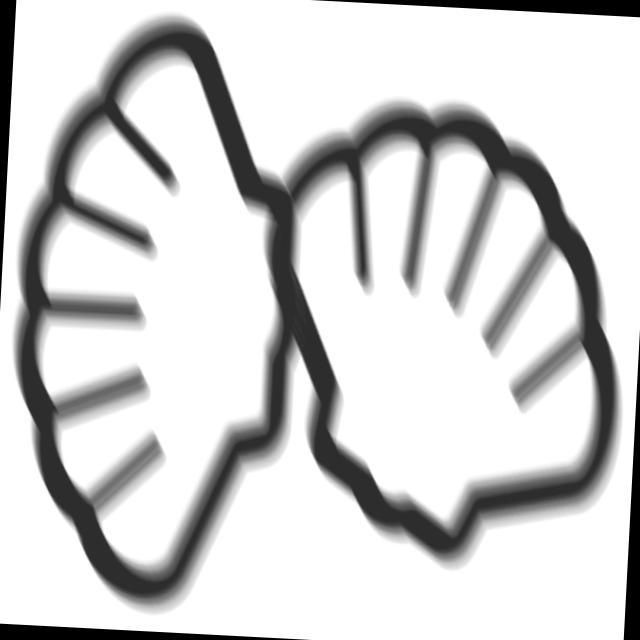shell: (231, 79, 640, 589), (1, 1, 325, 628)
